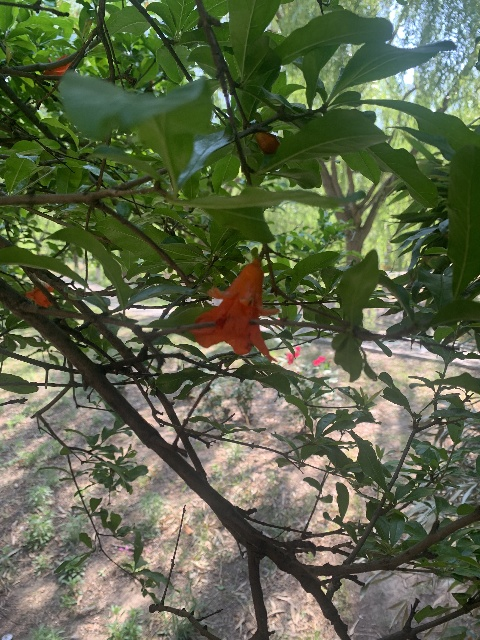bud: (253, 132, 279, 154)
flower: (190, 259, 279, 362), (25, 283, 53, 306), (42, 54, 71, 75)
